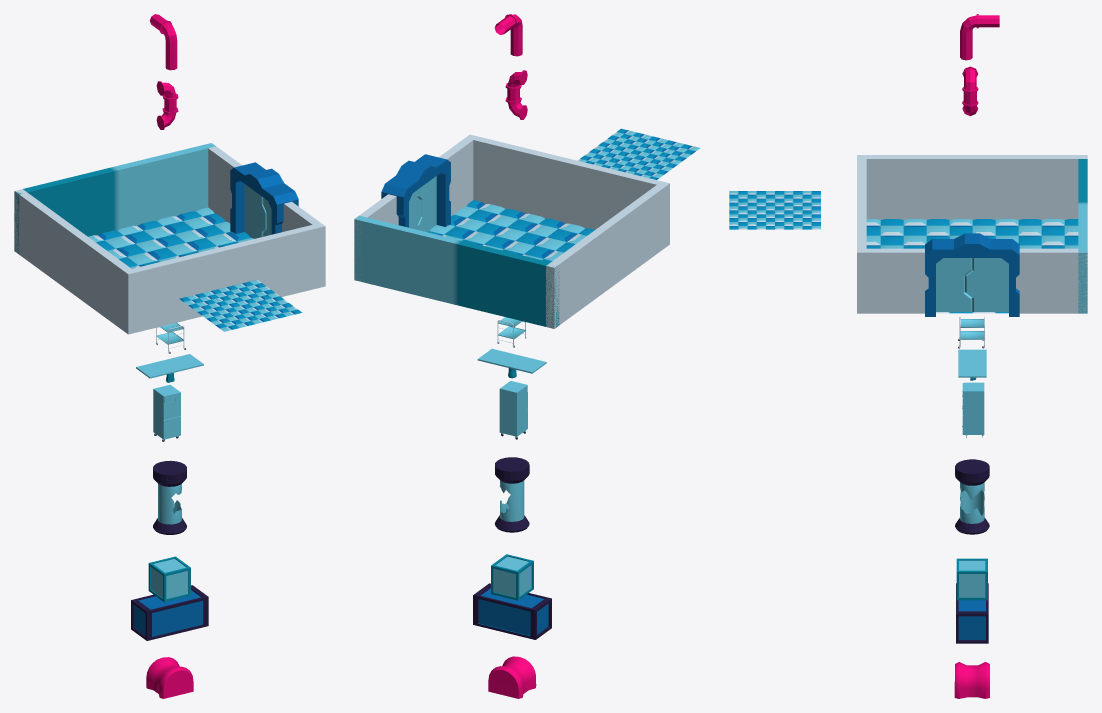
Rendered from Ready_for_Unity.fbx.
3 views of the same model, side by side, from view 1: azimuth 30°, elevation 25°; view 2: azimuth 150°, elevation 25°; view 3: azimuth 270°, elevation 25° (orthographic).
Visible parts, largest first — view 1: polySurface100, polySurface202, polySurface101, polySurface368, polySurface444, crate:polySurface3, polySurface205, crate:polySurface1, polySurface204, pCylinder1, fridge:polySurface1, polySurface206 (+6 smaller); view 2: polySurface202, polySurface100, polySurface101, polySurface368, polySurface444, crate:polySurface3, polySurface205, polySurface203, crate:polySurface1, pCylinder1, fridge:polySurface1, pCube15 (+6 smaller); view 3: polySurface101, polySurface368, polySurface203, polySurface204, polySurface444, polySurface205, polySurface206, polySurface207, polySurface100, polySurface202, crate:polySurface3, crate:polySurface1 (+7 smaller).
Boxes of the visible parts, <box> form: polySurface100: <box>123,223,325,334</box>; polySurface202: <box>14,143,215,253</box>; polySurface101: <box>14,189,136,333</box>; polySurface368: <box>88,207,253,268</box>; polySurface444: <box>179,279,302,331</box>; crate:polySurface3: <box>131,585,208,640</box>; polySurface205: <box>230,162,298,234</box>; crate:polySurface1: <box>148,556,190,602</box>; polySurface204: <box>206,143,241,223</box>; pCylinder1: <box>146,657,193,698</box>; fridge:polySurface1: <box>153,384,180,441</box>; polySurface206: <box>244,184,266,238</box>; polySurface202: <box>354,215,559,328</box>; polySurface100: <box>465,134,669,247</box>; polySurface101: <box>546,182,669,328</box>; polySurface368: <box>427,200,594,262</box>; polySurface444: <box>578,128,700,179</box>; crate:polySurface3: <box>473,583,551,639</box>; polySurface205: <box>381,154,450,227</box>; polySurface203: <box>439,135,477,215</box>; crate:polySurface1: <box>491,554,533,600</box>; pCylinder1: <box>488,656,536,698</box>; fridge:polySurface1: <box>499,381,527,439</box>; pCube15: <box>477,348,546,378</box>; polySurface101: <box>857,155,1087,219</box>; polySurface368: <box>866,219,1078,313</box>; polySurface203: <box>857,248,928,313</box>; polySurface204: <box>1016,248,1087,313</box>; polySurface444: <box>729,191,820,229</box>; polySurface205: <box>925,233,1019,316</box>; polySurface206: <box>965,258,1008,312</box>; polySurface207: <box>936,258,972,312</box>; polySurface100: <box>857,155,866,313</box>; polySurface202: <box>1078,159,1087,313</box>; crate:polySurface3: <box>956,583,988,643</box>; crate:polySurface1: <box>956,558,987,600</box>.
Bounding box in the file's own units: 24.83 × 77.52 × 37.29.
